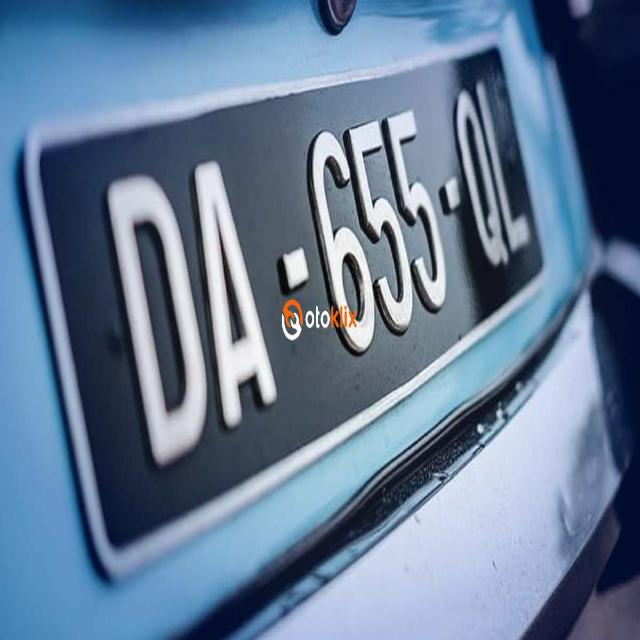lisence-plate: (4, 0, 566, 584)
